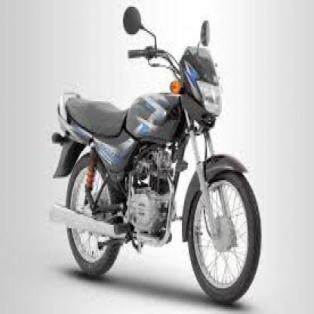Motocicleta: (45, 0, 264, 303)
